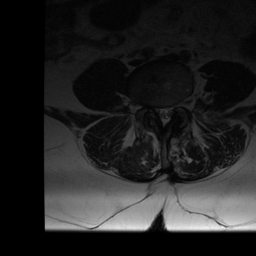CCS_normal: (160, 101, 167, 131)
LFS_severe_stenosis: (173, 100, 179, 115)
LLS_normal: (166, 101, 172, 123)
RFS_severe_stenosis: (145, 101, 154, 117)
RLS_stenosis: (154, 102, 161, 121)
